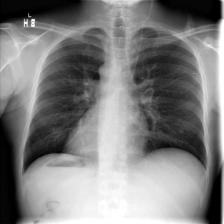normal: (19, 22, 213, 181)
